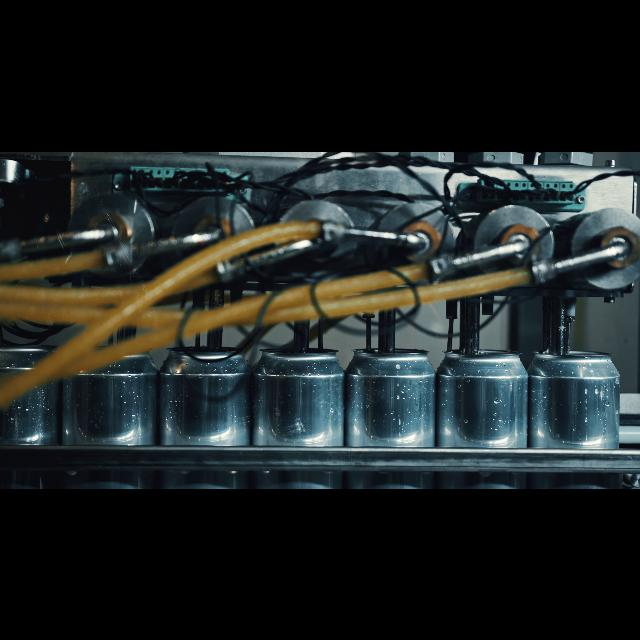empty: (535, 339, 623, 488), (69, 344, 157, 488), (442, 339, 526, 488), (351, 340, 434, 488), (166, 346, 252, 488), (262, 338, 342, 488), (1, 342, 62, 488)
